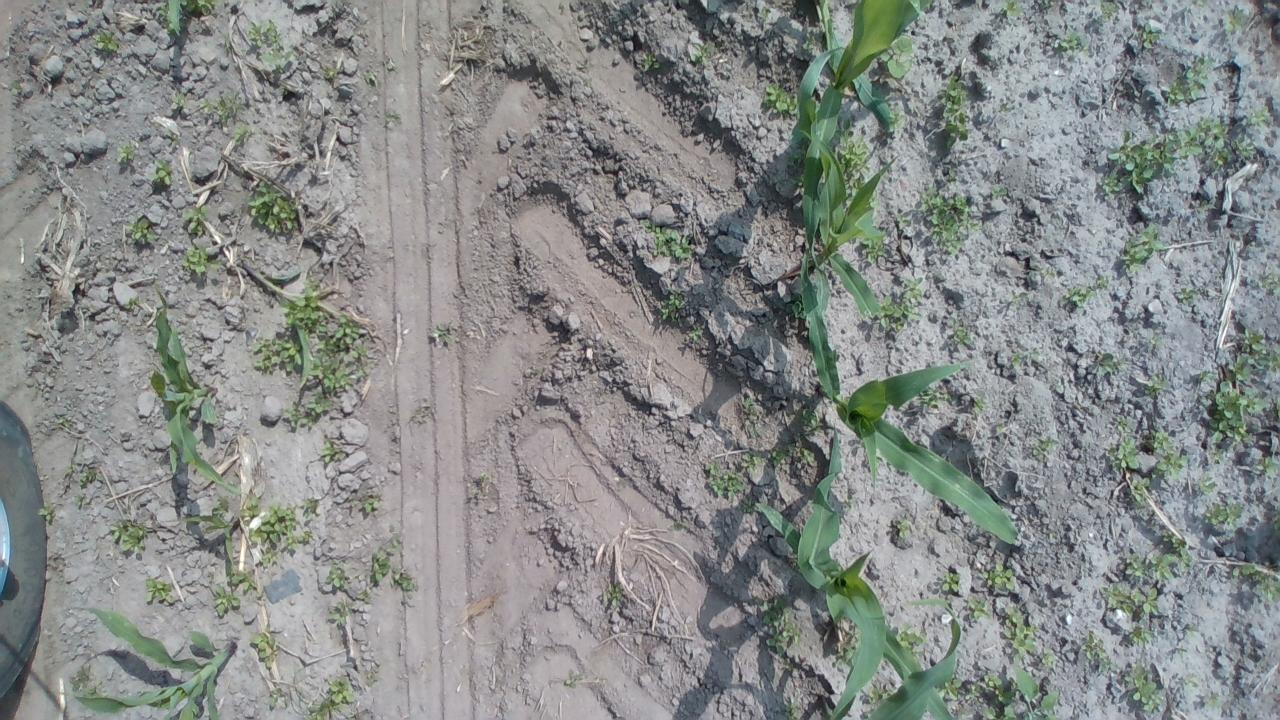Maize: (796, 244, 1021, 545), (752, 421, 964, 719), (791, 0, 929, 320), (796, 44, 907, 400), (54, 604, 237, 717), (152, 290, 245, 496)
Weeds: (252, 284, 368, 434), (1103, 116, 1256, 195), (1208, 327, 1280, 450), (829, 127, 888, 268), (1100, 534, 1188, 618), (933, 670, 1061, 720), (241, 495, 320, 570), (918, 185, 982, 252), (305, 666, 380, 720), (370, 523, 419, 595), (326, 560, 372, 625), (874, 276, 929, 330), (750, 597, 804, 651), (248, 182, 298, 234), (939, 74, 971, 147), (1118, 664, 1162, 714), (1228, 562, 1280, 604), (1164, 59, 1213, 102), (1144, 430, 1186, 480), (642, 218, 692, 258), (1121, 224, 1162, 271), (248, 21, 290, 66), (106, 520, 156, 554), (701, 464, 750, 498), (876, 36, 914, 79), (163, 0, 214, 32), (998, 610, 1033, 656), (1110, 417, 1138, 471), (766, 439, 818, 468), (1198, 500, 1248, 530), (64, 464, 96, 509), (1062, 279, 1109, 308), (198, 90, 240, 122), (176, 505, 228, 530), (943, 316, 978, 352), (762, 84, 794, 118), (886, 625, 926, 652), (982, 562, 1018, 592), (249, 630, 278, 666), (1080, 630, 1107, 668), (656, 296, 688, 326), (144, 578, 177, 606), (123, 221, 158, 247), (210, 586, 241, 615), (912, 388, 951, 411), (181, 204, 209, 236), (180, 250, 217, 274), (1056, 28, 1085, 55), (1247, 457, 1280, 480), (1010, 348, 1036, 374), (430, 322, 456, 348), (891, 520, 912, 552), (1092, 354, 1124, 374), (1127, 476, 1149, 505), (741, 398, 760, 431), (1224, 6, 1250, 30), (1029, 438, 1058, 458), (1142, 378, 1174, 396), (92, 32, 120, 52), (692, 43, 712, 70), (354, 495, 382, 514), (942, 570, 962, 596), (1140, 25, 1159, 52), (1262, 268, 1280, 296), (319, 440, 339, 464), (637, 52, 659, 72), (964, 599, 986, 619), (152, 162, 170, 186), (888, 105, 904, 132), (1196, 476, 1218, 495), (1036, 651, 1060, 668), (269, 686, 286, 710), (1125, 632, 1153, 646), (116, 141, 132, 165), (36, 504, 56, 523), (1174, 289, 1198, 302), (232, 126, 249, 144), (1212, 448, 1230, 464), (684, 326, 704, 340), (1251, 108, 1268, 122), (1204, 690, 1221, 704), (1006, 1, 1021, 16), (1182, 675, 1199, 688), (974, 396, 989, 410), (992, 185, 1008, 197), (171, 88, 181, 105), (126, 297, 138, 311), (993, 427, 1011, 436)
